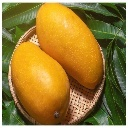mango: (35, 4, 104, 90), (9, 41, 71, 128)
